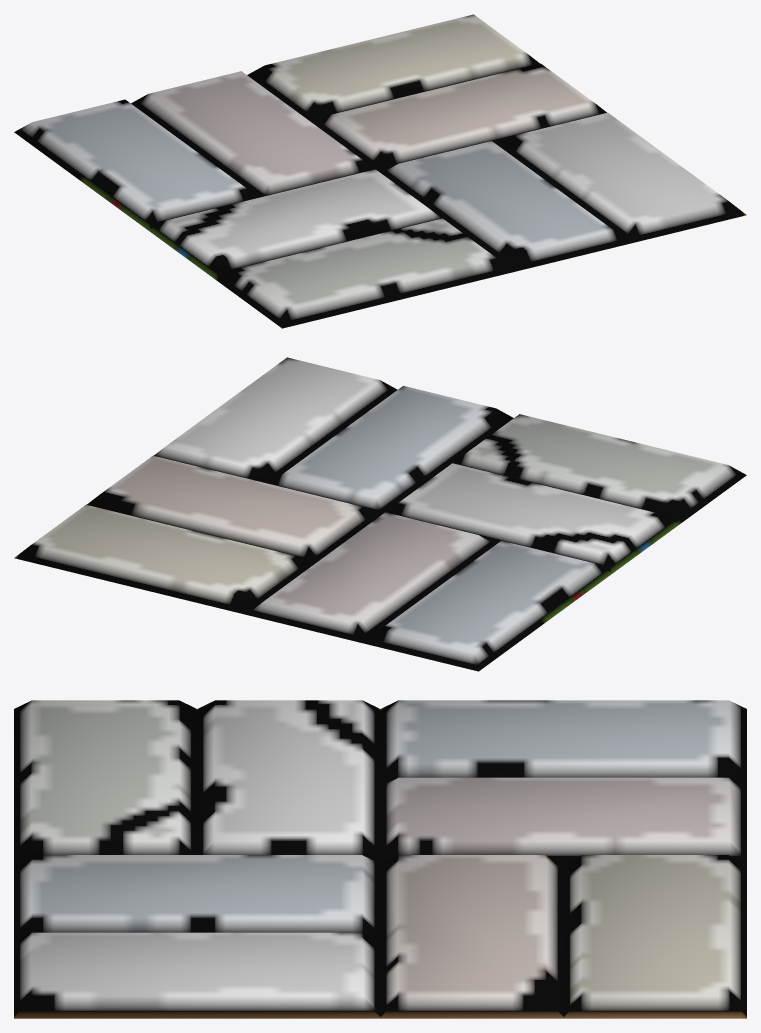
File: deco_floorTilesCross.FBX
3 renders of one model, top to bottom at view 1: azimuth 30°, elevation 25°; view 2: azimuth 150°, elevation 25°; view 3: azimuth 270°, elevation 25°, orthographic. The views are drawn at different scales.
Parts seen in each view (by area): view 1: deco_floorTilesCross; view 2: deco_floorTilesCross; view 3: deco_floorTilesCross.
Boxes of the visible parts, left/top/right/bottom form: deco_floorTilesCross: left=14, top=14, right=746, bottom=328; deco_floorTilesCross: left=14, top=357, right=746, bottom=671; deco_floorTilesCross: left=14, top=700, right=746, bottom=1018.
Size of the model in its own units: 2 by 0.05 by 2.
Materials: 1 (1 with a texture image).
